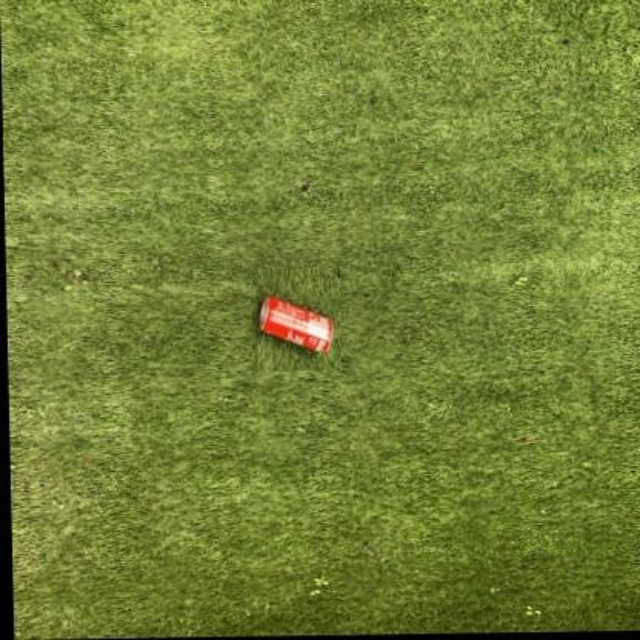trash: (258, 295, 332, 352)
